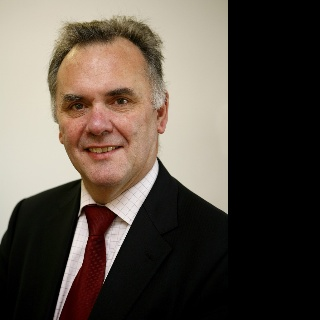without_mask: (62, 46, 157, 184)
